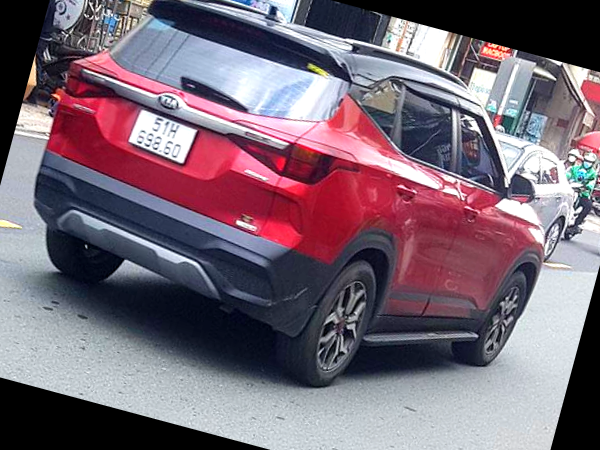lisence: (128, 109, 198, 166)
